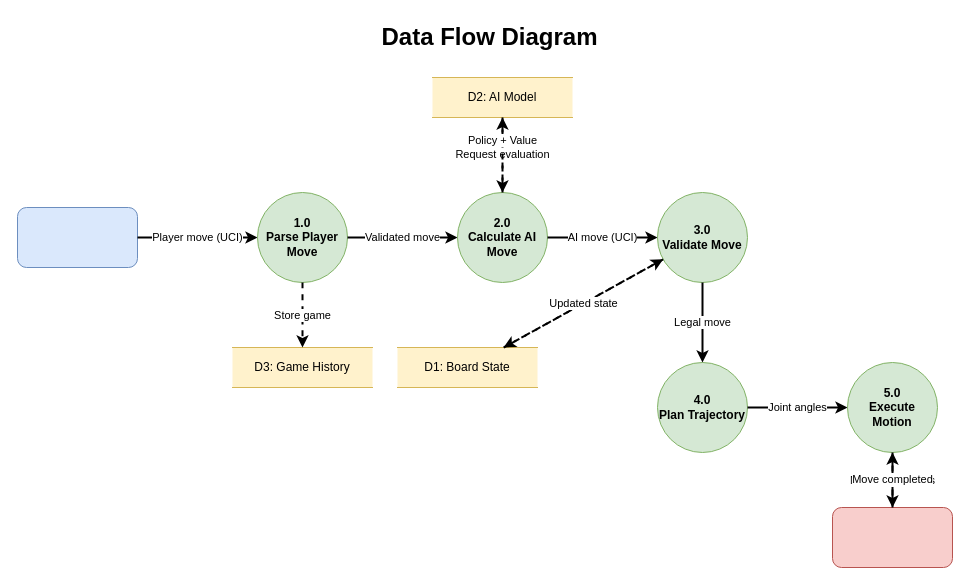
This 970x585 diagram has some shape labels left out. Here are the shapes that lost their labels. From the top down, the box of each, then its label:
(16, 206, 138, 268): Human Player
(832, 506, 952, 568): Physical Robot
